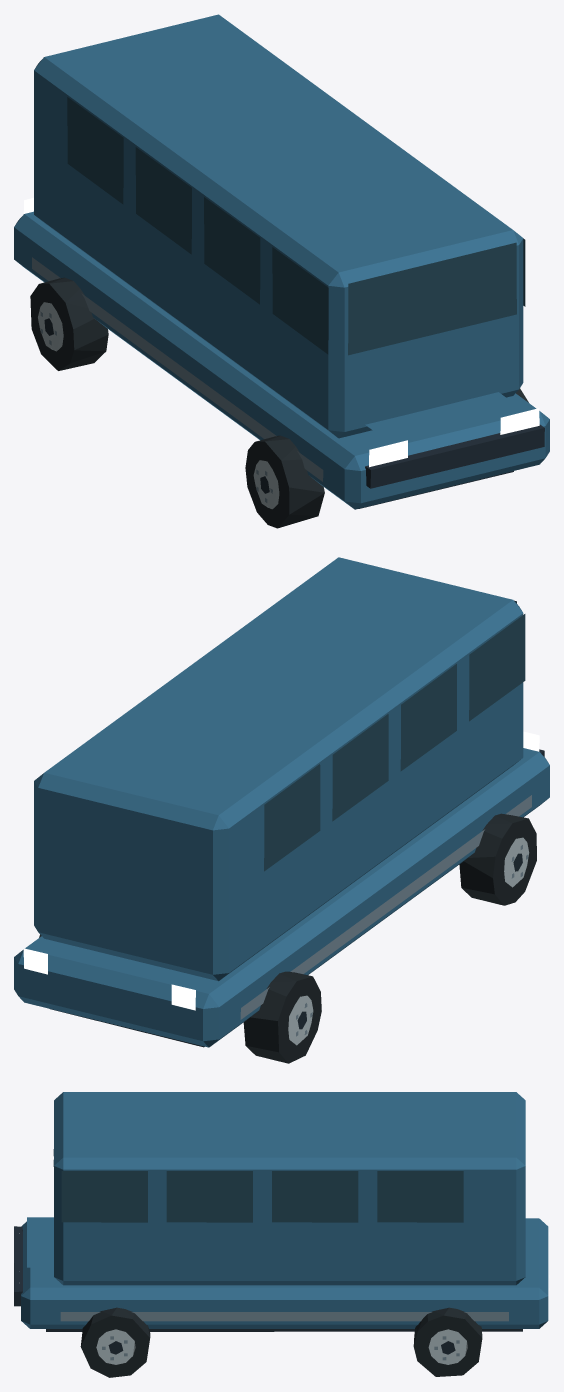
Rendered from road-van.lod2.glb.
The picture shows the model from 3 angles, top to bottom: view 1: azimuth 30°, elevation 25°; view 2: azimuth 150°, elevation 25°; view 3: azimuth 270°, elevation 25°; orthographic projection. The views are drawn at different scales.
Parts seen in each view (by area): view 1: road-van__body, road-van__wheel_steer_1_l, road-van__wheel_steer_0_l; view 2: road-van__body, road-van__wheel_steer_1_l, road-van__wheel_steer_0_l; view 3: road-van__body, road-van__wheel_steer_0_r, road-van__wheel_steer_1_r.
Part boxes in pixels (x1,y1,x2,y2): road-van__body: (14,14,549,509); road-van__wheel_steer_1_l: (30,277,108,370); road-van__wheel_steer_0_l: (245,435,324,528); road-van__body: (14,557,549,1047); road-van__wheel_steer_1_l: (243,971,321,1063); road-van__wheel_steer_0_l: (459,813,536,905); road-van__body: (14,1092,549,1331); road-van__wheel_steer_0_r: (80,1307,150,1377); road-van__wheel_steer_1_r: (413,1307,482,1376).
Size of the model in its own units: 2.24 by 2.25 by 5.29.
